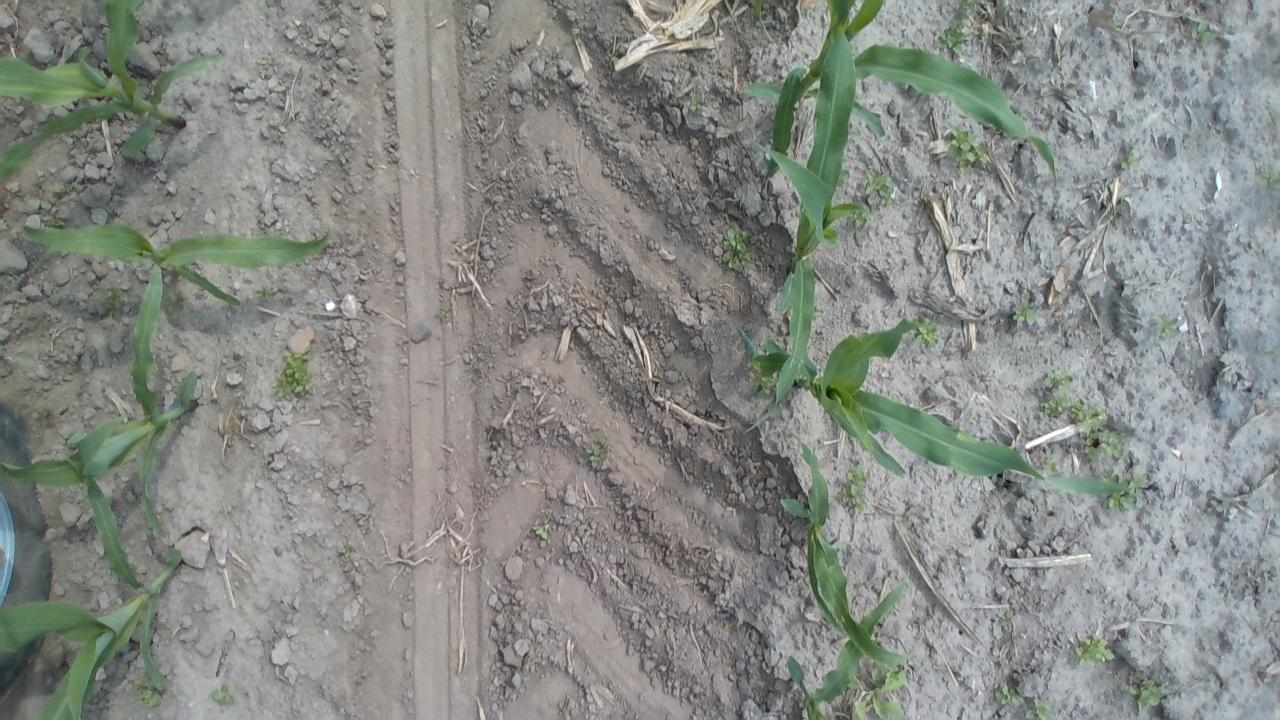Maize: (738, 318, 1146, 505), (737, 0, 1061, 198), (2, 261, 204, 542), (745, 1, 873, 431), (3, 476, 185, 720), (0, 0, 224, 180), (780, 444, 926, 669), (18, 218, 336, 310), (786, 560, 912, 720)
Weeds: (1041, 384, 1108, 437), (1038, 367, 1092, 430), (854, 663, 910, 719), (272, 347, 318, 400), (948, 128, 994, 176), (1101, 470, 1150, 512), (1040, 366, 1078, 420), (838, 463, 872, 516), (1127, 671, 1167, 715), (1081, 427, 1128, 462), (1073, 632, 1117, 668), (718, 226, 752, 272), (862, 168, 897, 207), (936, 21, 970, 61), (1186, 16, 1219, 56), (910, 316, 941, 352), (132, 675, 165, 708), (1152, 312, 1182, 344), (746, 366, 776, 398), (1020, 696, 1060, 719), (1008, 300, 1038, 330), (990, 680, 1024, 706), (99, 286, 130, 314), (586, 437, 610, 470), (211, 680, 238, 708), (1119, 147, 1143, 173), (532, 518, 556, 543), (1257, 167, 1278, 194), (956, 1, 992, 16), (994, 609, 1018, 630), (164, 292, 184, 317), (1107, 199, 1132, 219), (1041, 450, 1060, 476), (844, 672, 864, 695), (255, 287, 278, 306), (48, 178, 69, 197), (836, 164, 854, 186), (435, 304, 454, 324), (690, 92, 706, 114), (1256, 348, 1274, 364), (340, 542, 355, 557)
